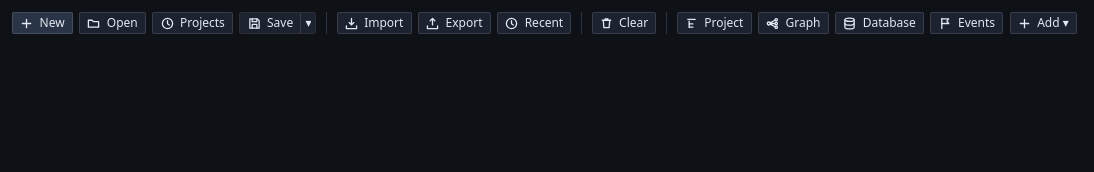
Scenario: Toolbar › offers Save As from the disclosure beside Save, and only from there
The width and height of the screenshot is (1094, 172).
Click the button with class "chip-button" showing "▾" at (308, 23), box [300,13,315,33]
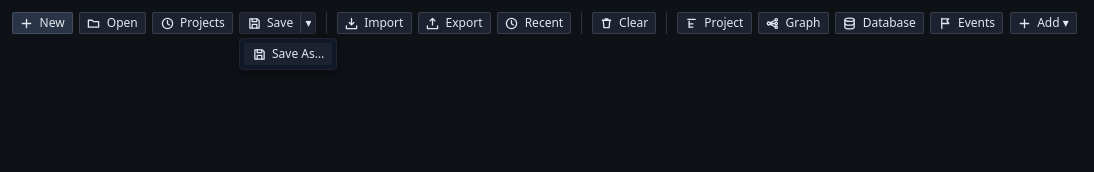
Click the button with class "chip-button" showing "Save As…" at (288, 54), box [244,43,332,65]
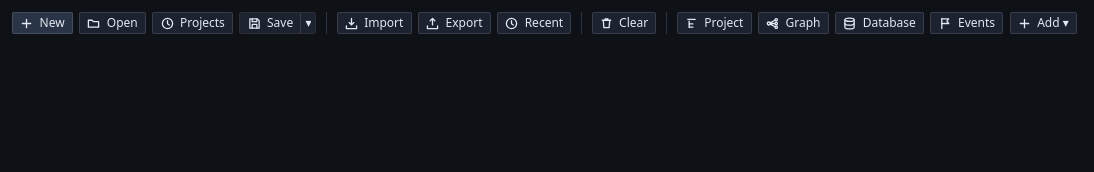
Now the menu with class "save-split-menu" is gone
